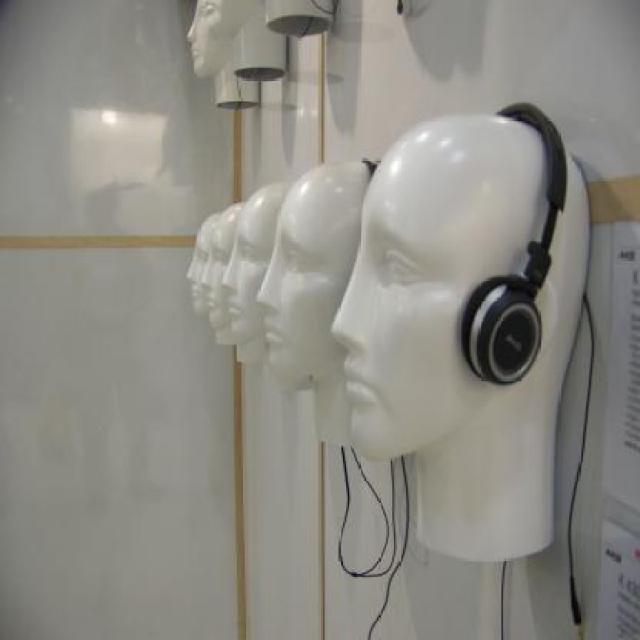earphone: (462, 78, 585, 415)
